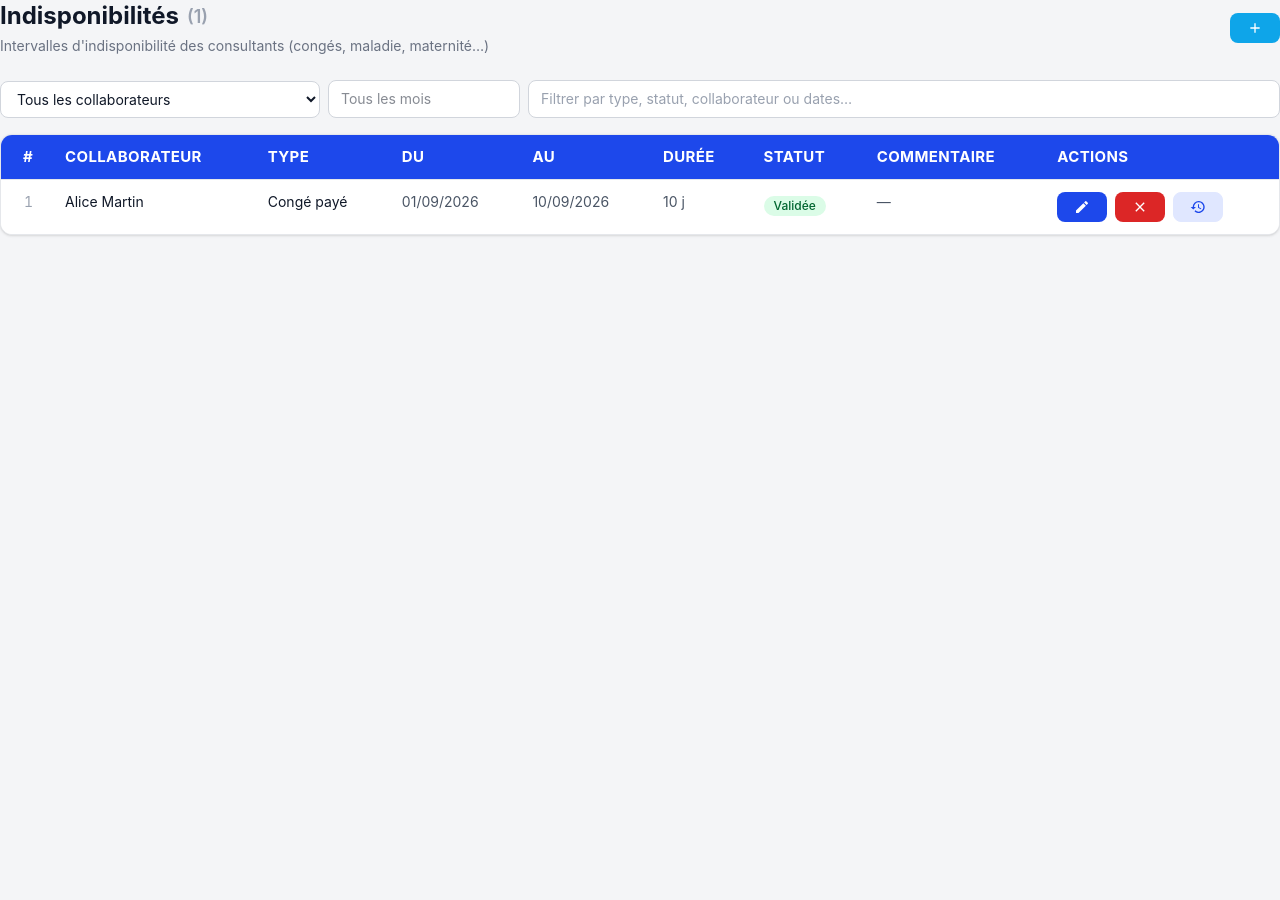
Test: Unavailability › affiche l’historique des modifications
Click the button named "Historique" at point(1198, 207), box [1173, 192, 1223, 222]
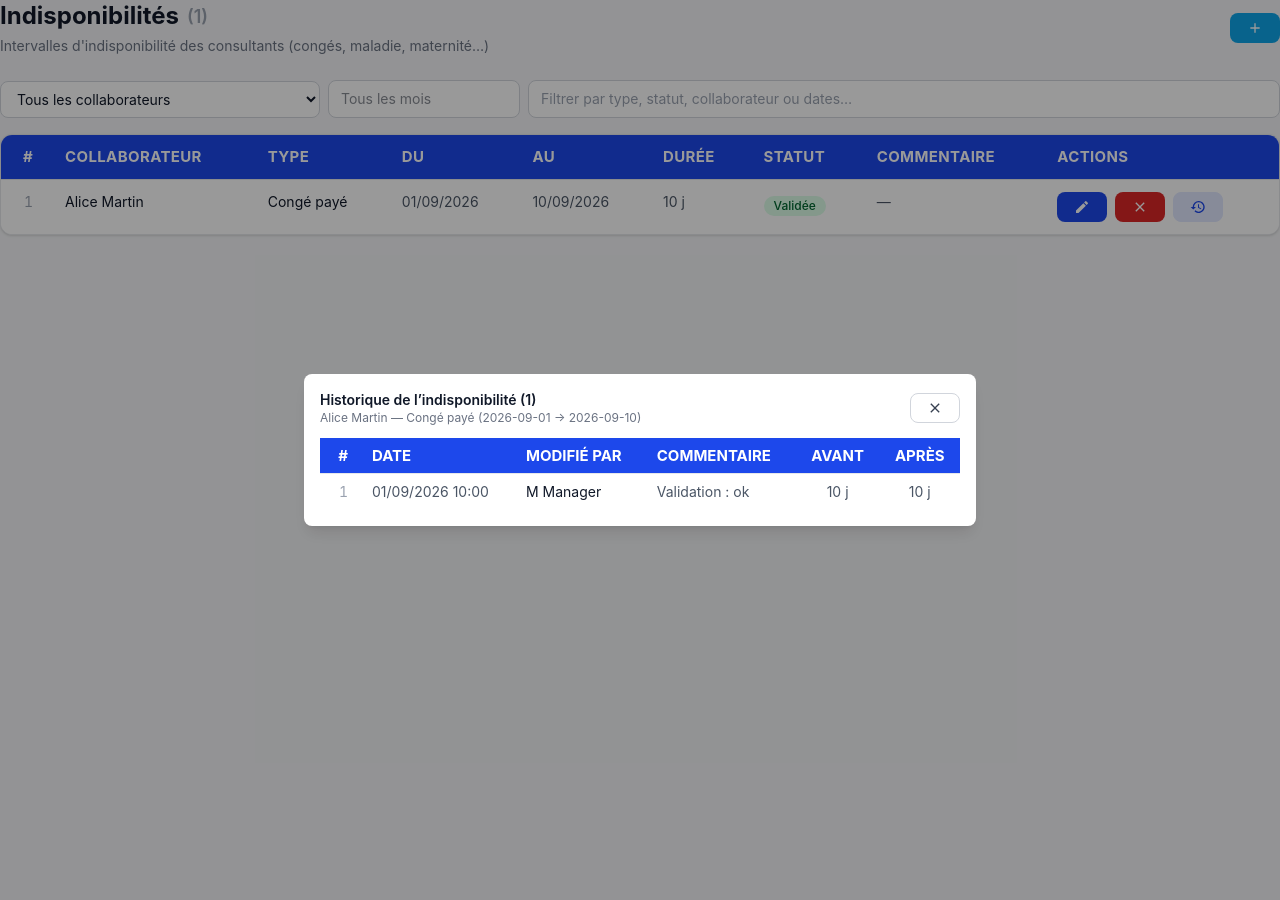
Check: the text "Validation : ok" is shown, box [645, 474, 796, 510]
